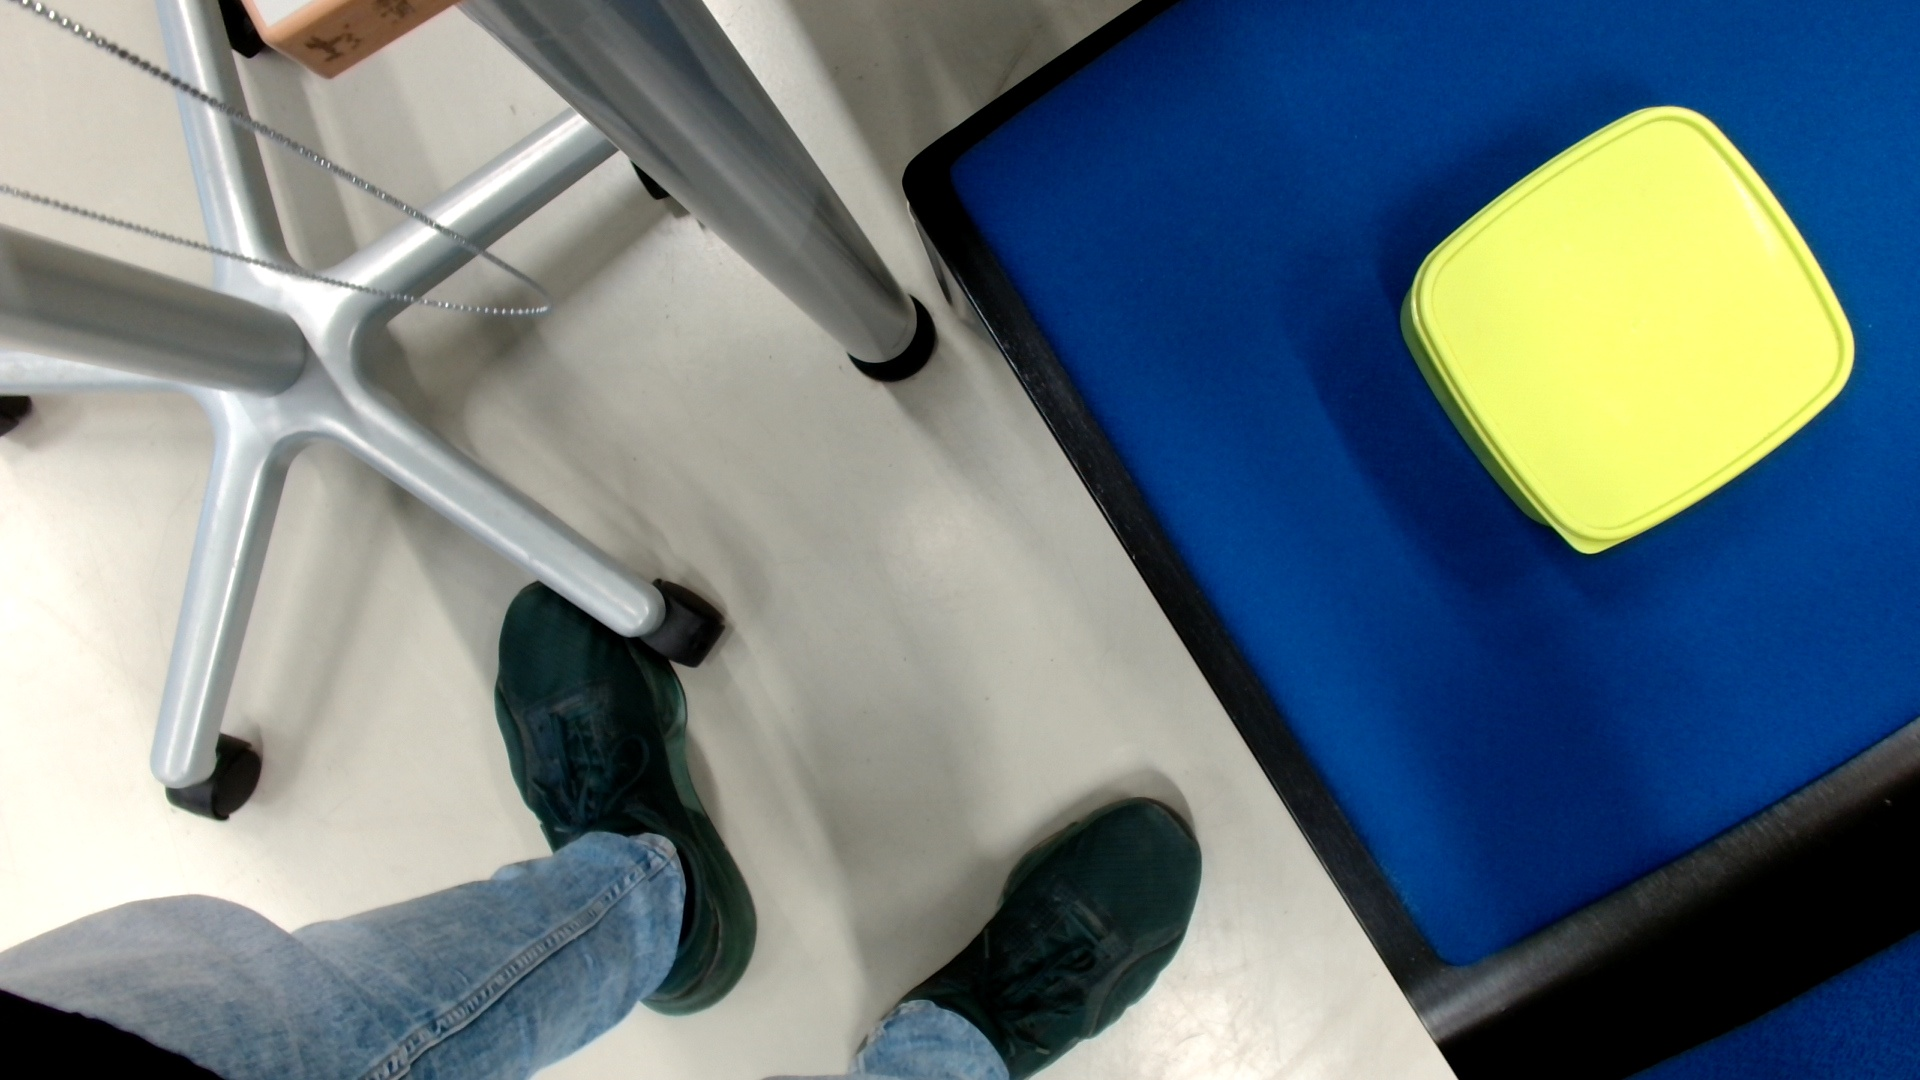Box: (1394, 99, 1861, 568)
